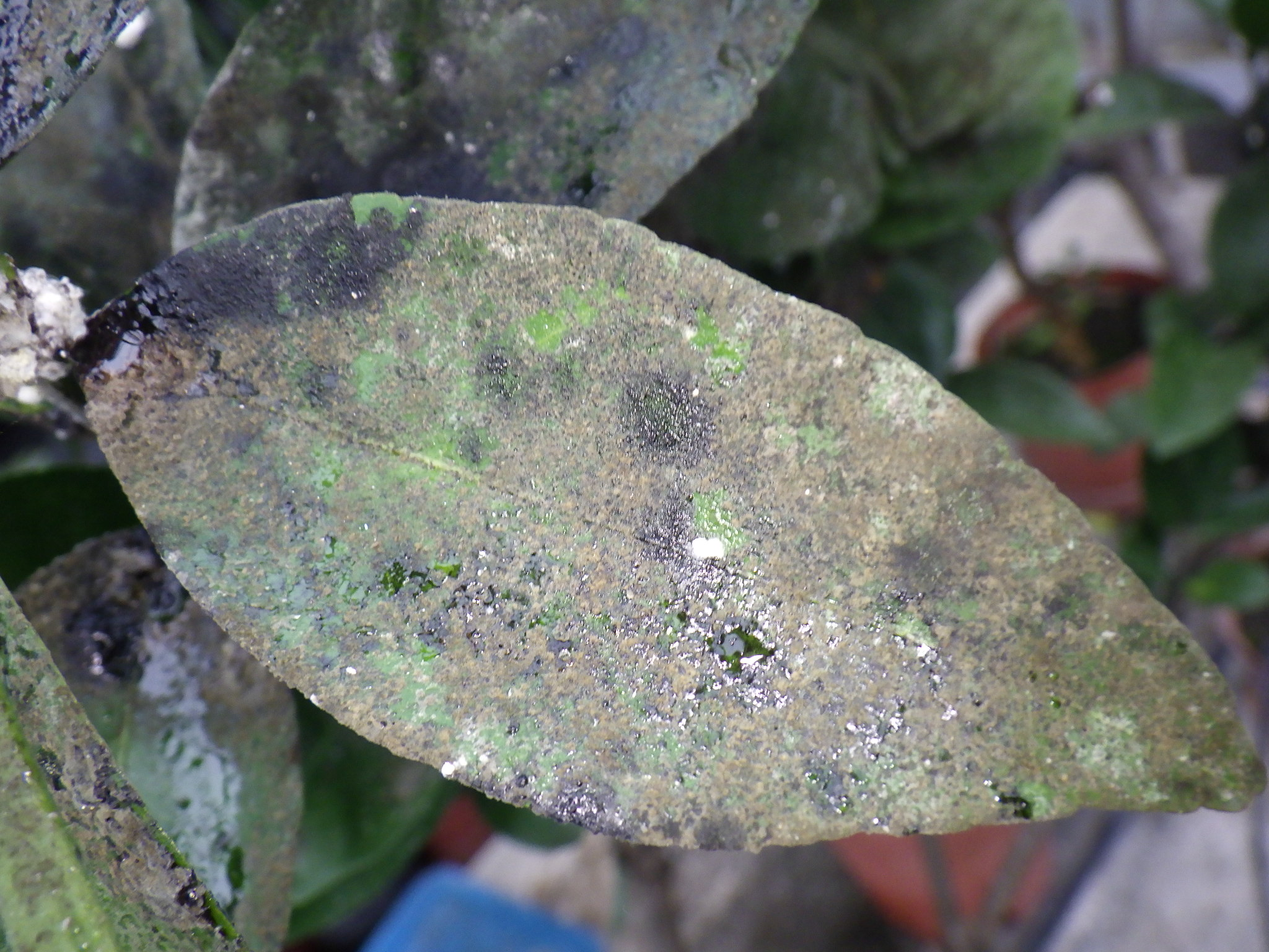Sooty_Mold: (80, 194, 1261, 848)
